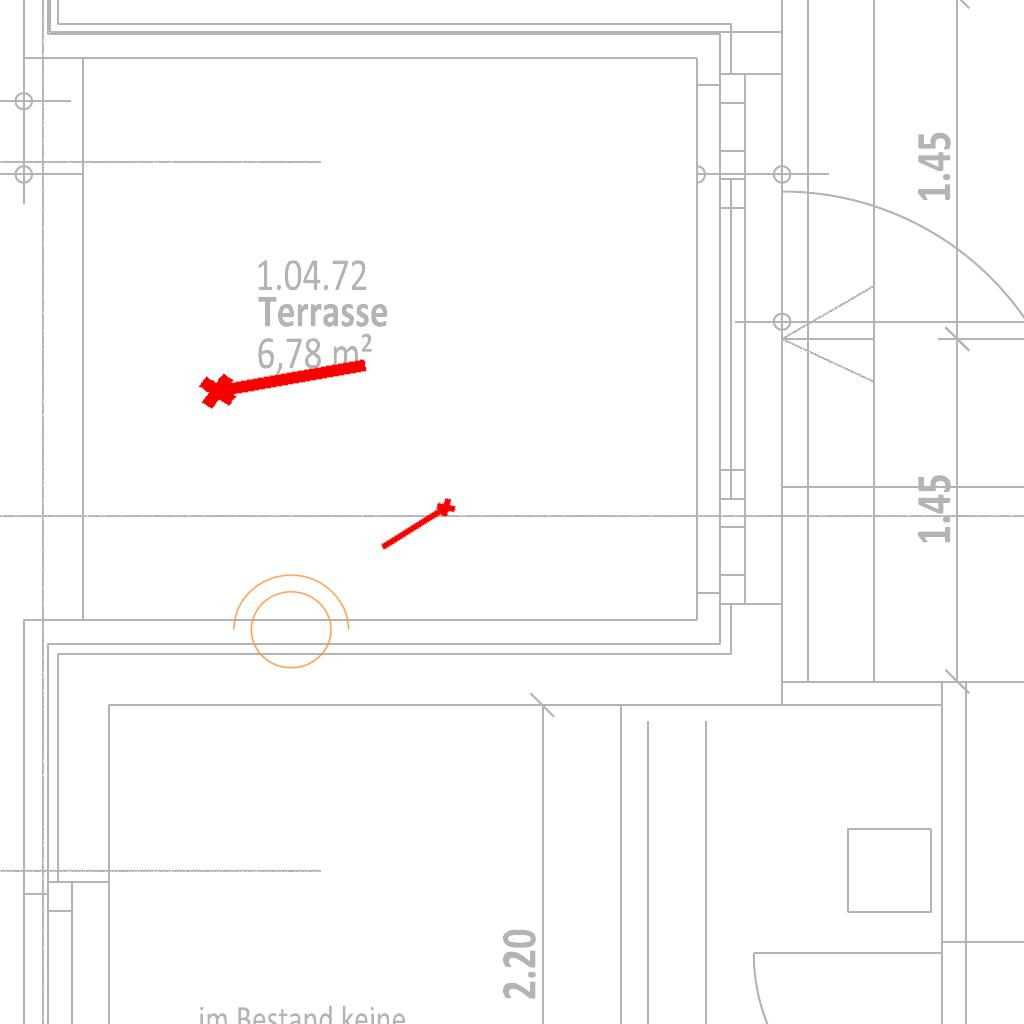ASR_Ansaugoeffnung: (193, 339, 375, 415), (374, 493, 462, 560)
Scheinwerfer_fuer_Alarmbeleuchtung: (222, 569, 354, 681)
